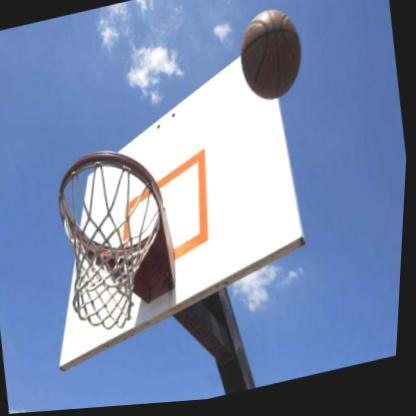basketball: (232, 6, 310, 110)
rim: (48, 138, 185, 340)
